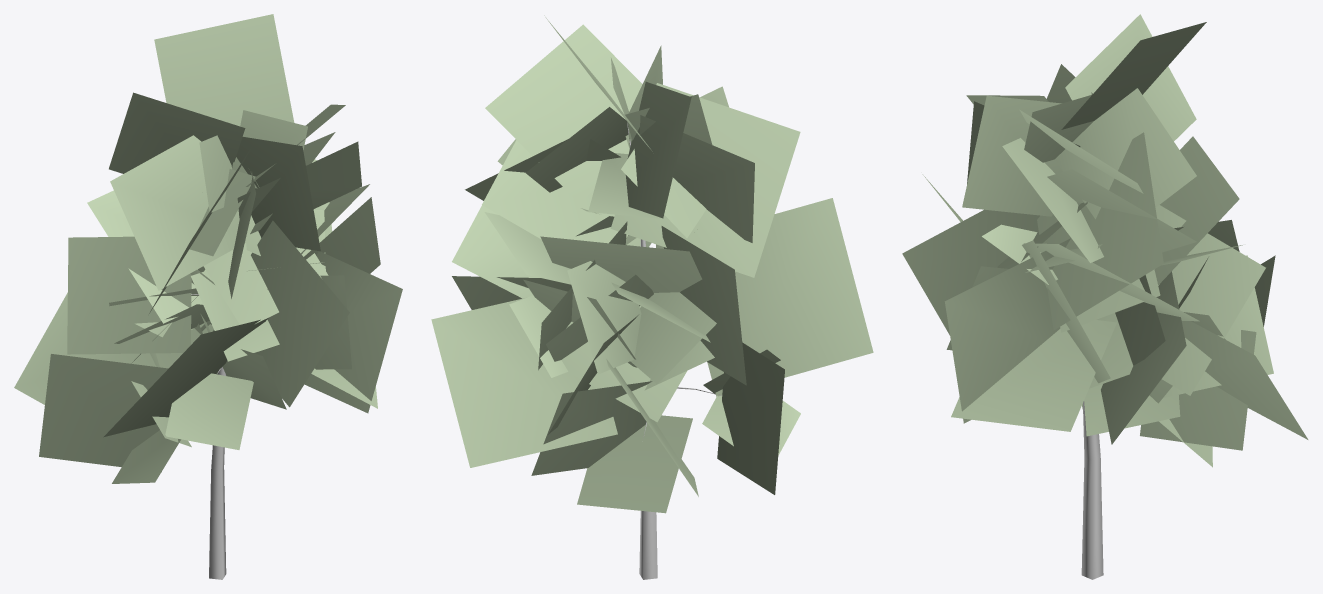
The model's file is hinoki_lo.glb.
The picture shows the model from 3 angles, left to right: view 1: azimuth 30°, elevation 25°; view 2: azimuth 150°, elevation 25°; view 3: azimuth 270°, elevation 25°; orthographic projection. The views are drawn at different scales.
Size of the model in its own units: 13.96 by 21 by 13.43.
